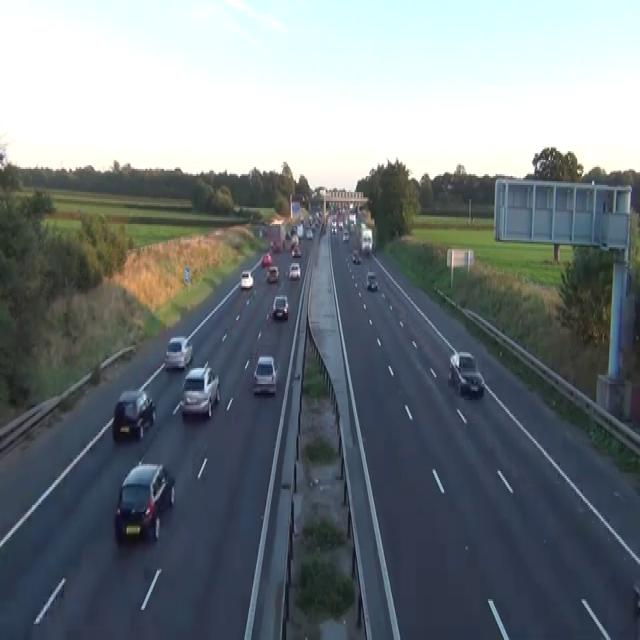Car: (114, 460, 175, 542), (179, 361, 220, 419), (112, 387, 156, 441), (447, 351, 484, 396), (163, 336, 192, 370), (252, 356, 276, 394), (272, 295, 289, 320), (366, 270, 378, 290), (240, 270, 253, 288), (288, 261, 301, 279), (632, 583, 639, 615), (266, 265, 278, 283), (270, 238, 282, 252), (260, 252, 271, 266), (351, 249, 361, 263), (291, 245, 301, 256), (361, 240, 370, 252), (358, 222, 366, 235), (290, 235, 298, 247), (342, 229, 349, 242), (305, 228, 313, 238), (259, 226, 267, 236), (331, 222, 337, 233), (285, 229, 291, 240), (270, 238, 275, 251), (321, 222, 326, 233), (338, 220, 343, 230), (291, 226, 297, 234)
Truck: (268, 218, 285, 252)
